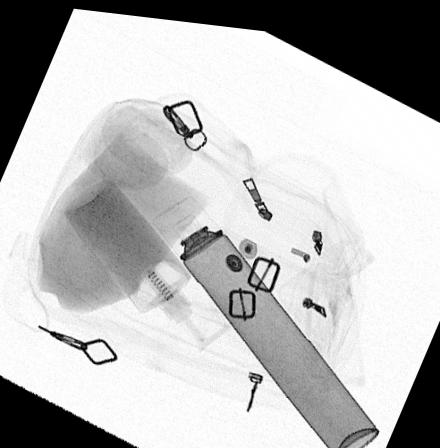Sprayer: (149, 190, 380, 448)
